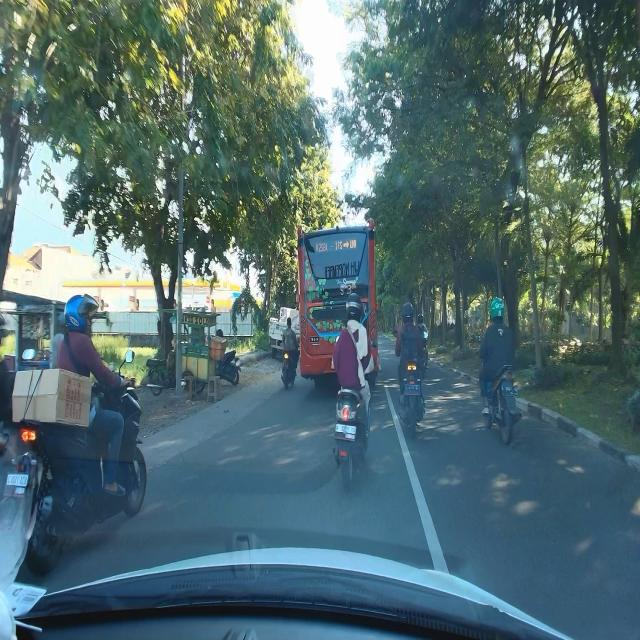bus: (297, 222, 380, 382)
truck: (267, 305, 302, 360)
